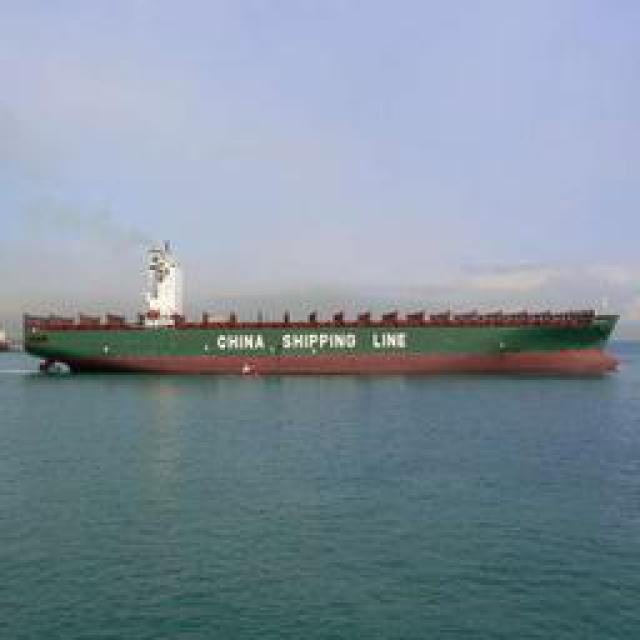Ship: (16, 314, 626, 379)
